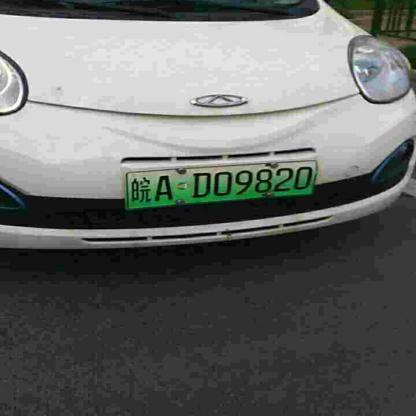lp: (124, 160, 316, 209)
